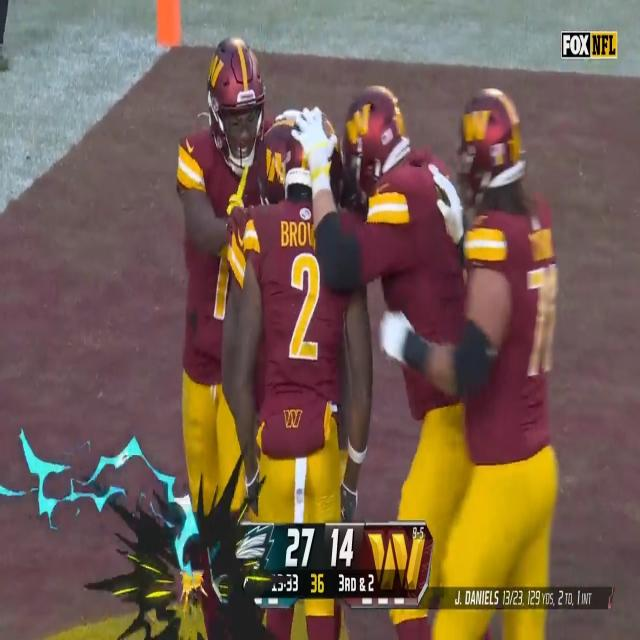Player: (442, 75, 561, 581), (338, 87, 468, 498), (232, 113, 363, 517), (177, 34, 264, 512)
